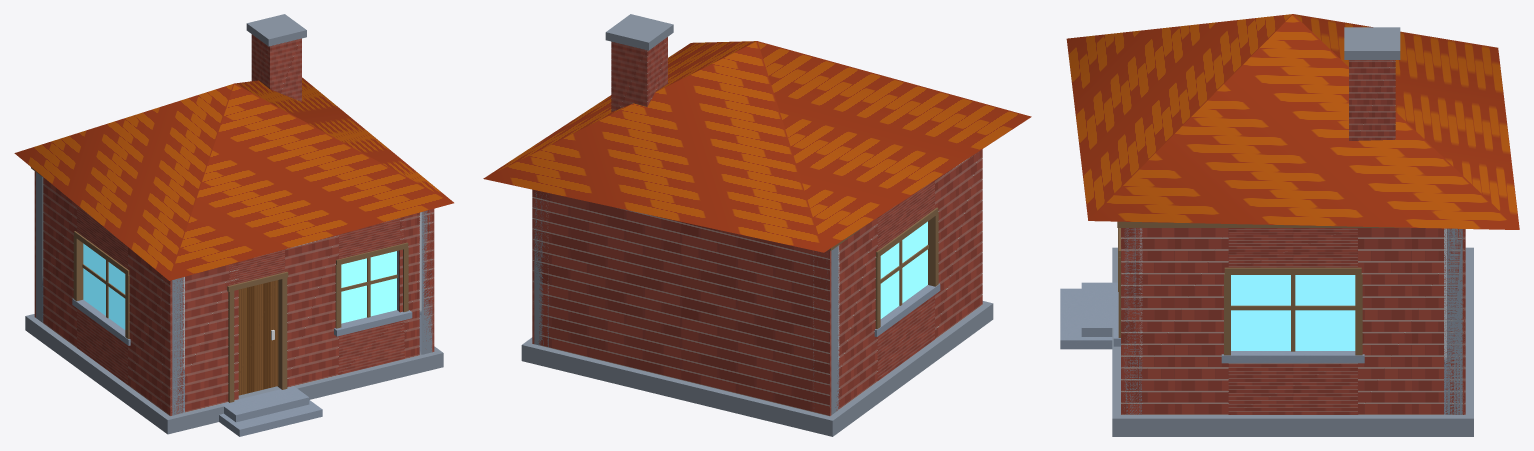
File: house_small_enterable.glb
The picture shows the model from 3 angles, left to right: view 1: azimuth 30°, elevation 25°; view 2: azimuth 150°, elevation 25°; view 3: azimuth 270°, elevation 25°; orthographic projection. The views are drawn at different scales.
Parts seen in each view (by area): view 1: house_small_enterable, door_front_pivot; view 2: house_small_enterable; view 3: house_small_enterable.
Boxes of the visible parts, bbox=[...] form: house_small_enterable: bbox=[14, 14, 453, 436]; door_front_pivot: bbox=[238, 280, 278, 395]; house_small_enterable: bbox=[483, 14, 1031, 436]; house_small_enterable: bbox=[1060, 14, 1519, 436].
Bounding box in the file's own units: 6.31 × 5.5 × 6.4.
Materials: 9 (5 with a texture image).
